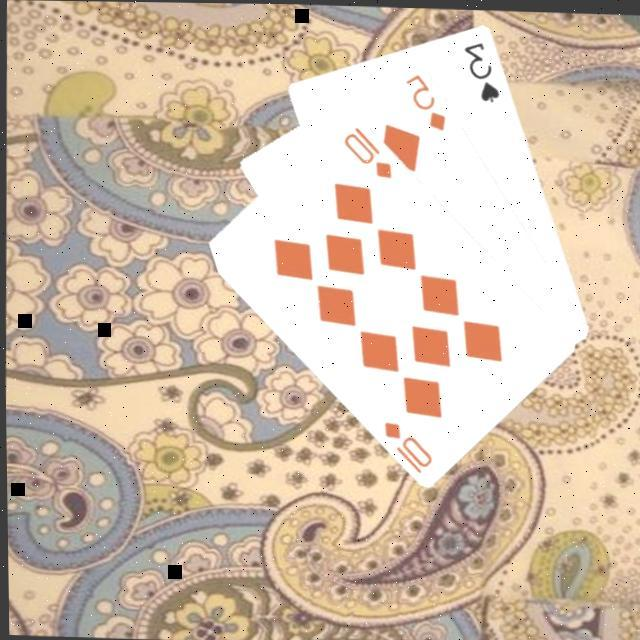10D: (378, 417, 436, 477), (338, 123, 396, 182)
3S: (460, 36, 504, 106)
5D: (401, 70, 450, 134)
